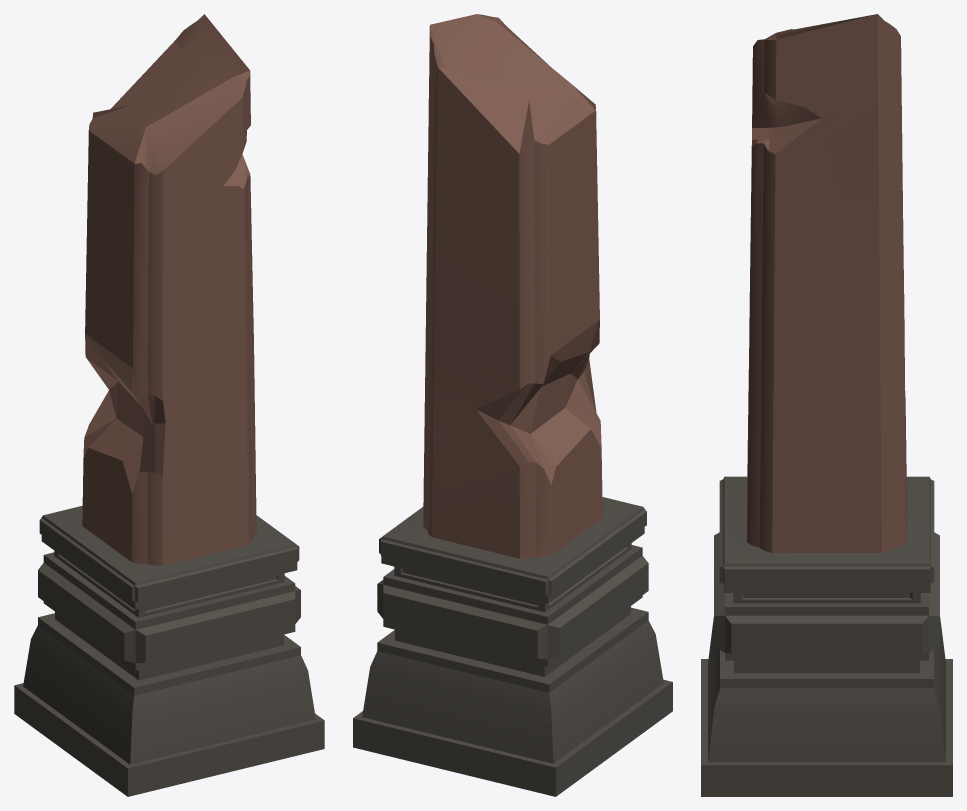
File: Pillar_Broken.fbx
The picture shows the model from 3 angles, left to right: view 1: azimuth 30°, elevation 25°; view 2: azimuth 150°, elevation 25°; view 3: azimuth 270°, elevation 25°; orthographic projection. The views are drawn at different scales.
Parts seen in each view (by area): view 1: Pillar_Basic_Broken_Bottom; view 2: Pillar_Basic_Broken_Bottom; view 3: Pillar_Basic_Broken_Bottom.
Part boxes in pixels (left/top/right/bottom): Pillar_Basic_Broken_Bottom: left=14, top=14, right=324, bottom=796; Pillar_Basic_Broken_Bottom: left=353, top=14, right=672, bottom=796; Pillar_Basic_Broken_Bottom: left=701, top=14, right=952, bottom=796.
Size of the model in its own units: 2 by 6.66 by 2.
